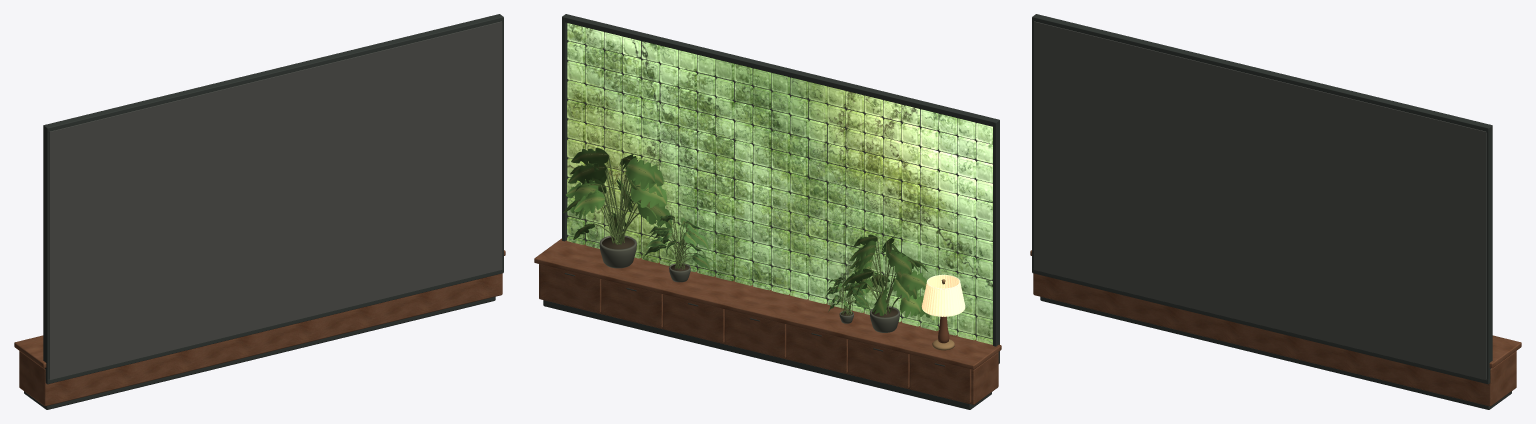
Rendered from cinema-garden-wall.glb.
The picture shows the model from 3 angles, left to right: view 1: azimuth 30°, elevation 25°; view 2: azimuth 150°, elevation 25°; view 3: azimuth 330°, elevation 25°; orthographic projection. The views are drawn at different scales.
Visible parts, largest first — view 1: CINEMA · M04 | Recessed charcoal grout, CINEMA · M03 | Walnut oiled cabinet, CINEMA · M06 | Patinated dark metal casing; view 2: CINEMA · M04 | Molded glass and transmitted garden light, CINEMA · M03 | Walnut oiled cabinet, CINEMA · Calathea and philodendron | leaf cuticle, CINEMA · M06 | Patinated dark metal casing, CINEMA · M04 | Recessed charcoal grout, CINEMA · Stems and pinnate veins, CINEMA · Iron-rich matt stoneware, CINEMA · Washed linen | warm lamp diffusion, CINEMA · Organic planting medium; view 3: CINEMA · M04 | Recessed charcoal grout, CINEMA · M03 | Walnut oiled cabinet, CINEMA · M06 | Patinated dark metal casing.
Boxes of the visible parts, left/top/right/bottom form: CINEMA · M04 | Recessed charcoal grout: left=49, top=21, right=502, bottom=379; CINEMA · M03 | Walnut oiled cabinet: left=14, top=250, right=505, bottom=406; CINEMA · M06 | Patinated dark metal casing: left=24, top=14, right=503, bottom=409; CINEMA · M04 | Molded glass and transmitted garden light: left=567, top=23, right=992, bottom=344; CINEMA · M03 | Walnut oiled cabinet: left=534, top=238, right=1001, bottom=404; CINEMA · Calathea and philodendron | leaf cuticle: left=563, top=148, right=930, bottom=317; CINEMA · M06 | Patinated dark metal casing: left=543, top=14, right=999, bottom=409; CINEMA · M04 | Recessed charcoal grout: left=567, top=32, right=992, bottom=339; CINEMA · Stems and pinnate veins: left=577, top=154, right=921, bottom=315; CINEMA · Iron-rich matt stoneware: left=599, top=235, right=899, bottom=332; CINEMA · Washed linen | warm lamp diffusion: left=922, top=274, right=965, bottom=316; CINEMA · Organic planting medium: left=602, top=237, right=897, bottom=317; CINEMA · M04 | Recessed charcoal grout: left=1033, top=21, right=1486, bottom=379; CINEMA · M03 | Walnut oiled cabinet: left=1030, top=250, right=1521, bottom=406; CINEMA · M06 | Patinated dark metal casing: left=1032, top=14, right=1511, bottom=409.
Bounding box in the file's own units: 5.3 × 3.14 × 0.6125.
Materials: 10 (2 with a texture image).
